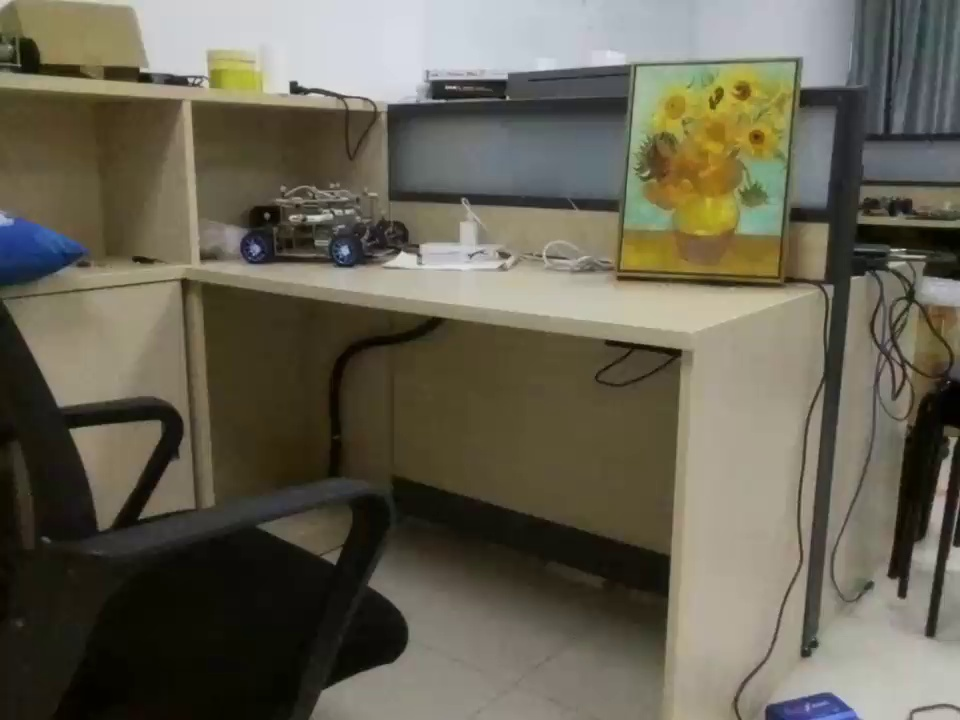painting: (618, 61, 812, 285)
